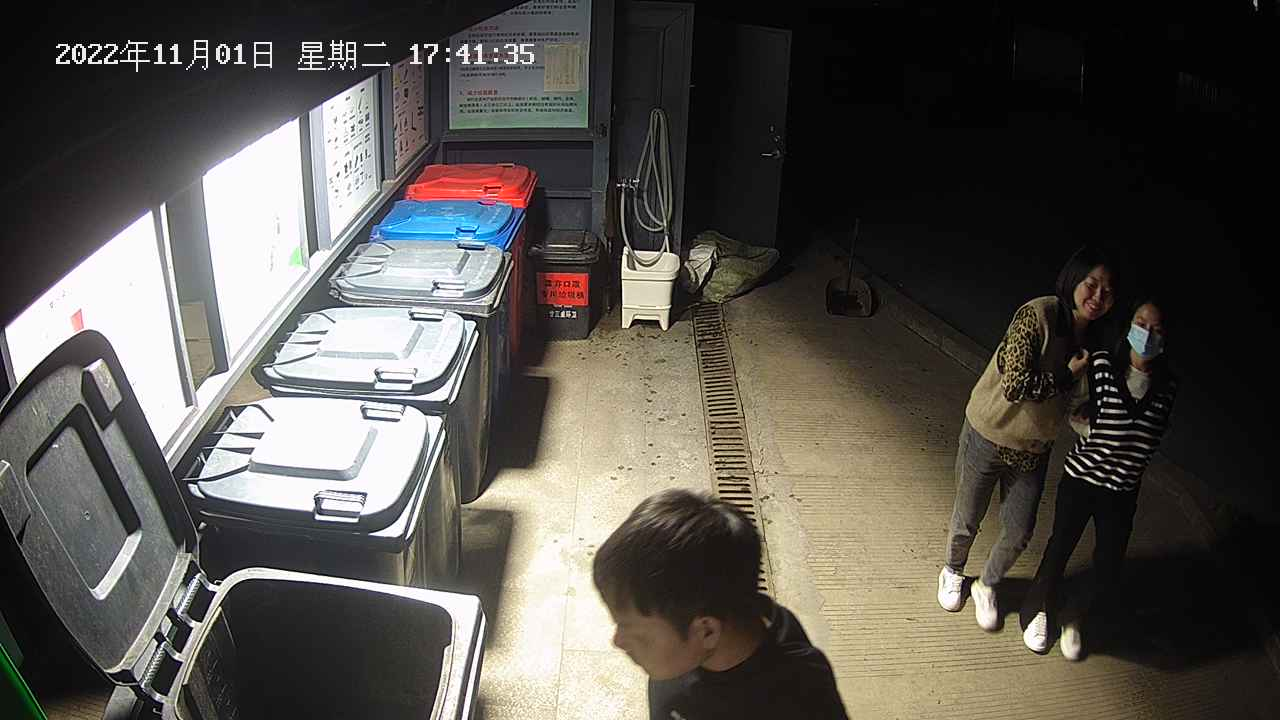person: (934, 239, 1182, 662), (589, 484, 851, 720)
